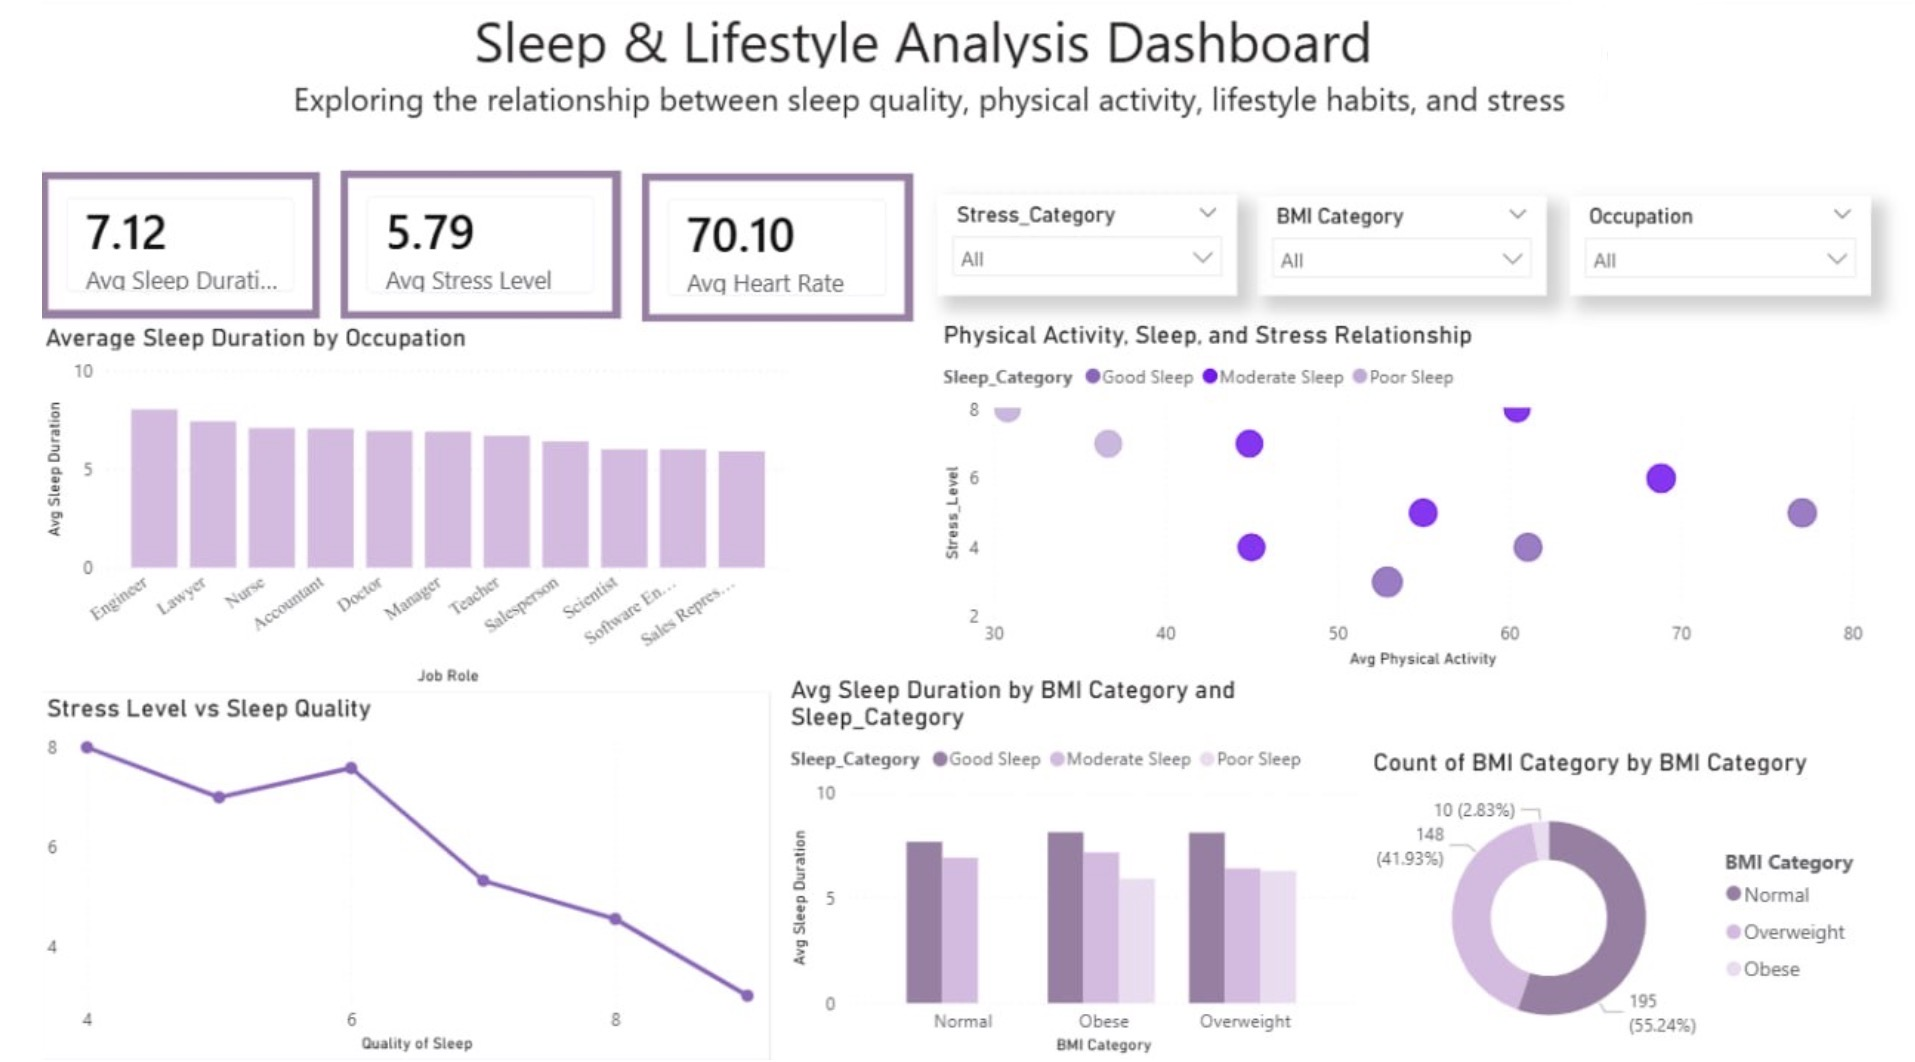

What the dashboard file says about the page in this screenshot:
{"tool":"powerbi","page":{"name":"Page 2","canvas":[1280,720],"ordinal":1},"visuals":[{"type":"donutChart","fields":{"Category":["Sleep_health_and_lifestyle_data.BMI Category"],"Y":["CountNonNull(Sleep_health_and_lifestyle_data.BMI Category)"]},"box":[904.3,507.1,350,212.9],"z":0},{"type":"lineChart","title":"Stress Level vs Sleep Quality","fields":{"Category":["Sleep_health_and_lifestyle_data.Quality of Sleep"],"Y":["Avg(Sleep_health_and_lifestyle_data.Stress_Level)"]},"box":[8.6,470,494.3,250],"z":1000},{"type":"columnChart","title":"Average Sleep Duration by Occupation","fields":{"Category":["Sleep_health_and_lifestyle_data.Occupation"],"Y":["Sleep_health_and_lifestyle_data.Avg Sleep Duration"]},"box":[8.6,220,511.4,250],"z":2000},{"type":"clusteredColumnChart","fields":{"Category":["Sleep_health_and_lifestyle_data.BMI Category"],"Series":["Sleep_health_and_lifestyle_data.Sleep_Category"],"Y":["Sleep_health_and_lifestyle_data.Avg Sleep Duration"]},"box":[511.4,458.6,392.9,261.4],"z":3000},{"type":"scatterChart","title":"Physical Activity, Sleep, and Stress Relationship","fields":{"X":["Sleep_health_and_lifestyle_data.Avg Physical Activity"],"Y":["Sleep_health_and_lifestyle_data.Stress_Level"],"Series":["Sleep_health_and_lifestyle_data.Sleep_Category"],"Size":["Sleep_health_and_lifestyle_data.Avg Sleep Duration"]},"box":[614.3,218.6,630,240],"z":4000},{"type":"cardVisual","fields":{"Data":["Sleep_health_and_lifestyle_data.Avg Sleep Duration"]},"box":[10.5,119.8,188.4,98.8],"z":5000},{"type":"cardVisual","fields":{"Data":["Sleep_health_and_lifestyle_data.Avg Stress Level"]},"box":[213,118.6,188.6,100],"z":6000},{"type":"cardVisual","fields":{"Data":["Sleep_health_and_lifestyle_data.Avg Heart Rate"]},"box":[415.7,120,182.9,100],"z":7000},{"type":"slicer","fields":{"Values":["Sleep_health_and_lifestyle_data.BMI Category"]},"box":[831,136,195,67],"z":8000},{"type":"slicer","fields":{"Values":["Sleep_health_and_lifestyle_data.Occupation"]},"box":[1041.4,135.7,202.9,67.1],"z":9000},{"type":"slicer","fields":{"Values":["Stress_Dim.Stress_Category"]},"box":[615,135,201.7,68.3],"z":10000},{"type":"textbox","box":[10,0,1067.1,54.3],"z":11000},{"type":"textbox","box":[151.4,50,925.7,40],"z":12000}]}

Visuals, with their boxes in screenshot pixels (x1, y1, x2, y2), scaled from the page's 1280x720 canvas onto the 1915x1062 screenshot:
donutChart - Sleep_health_and_lifestyle_data.BMI Category x CountNonNull(Sleep_health_and_lifestyle_data.BMI Category): box(1353, 748, 1877, 1061)
"Stress Level vs Sleep Quality" lineChart: box(13, 693, 752, 1061)
"Average Sleep Duration by Occupation" columnChart: box(13, 324, 778, 693)
clusteredColumnChart - Sleep_health_and_lifestyle_data.BMI Category x Sleep_health_and_lifestyle_data.Sleep_Category: box(765, 676, 1353, 1061)
"Physical Activity, Sleep, and Stress Relationship" scatterChart: box(919, 322, 1862, 676)
cardVisual - Sleep_health_and_lifestyle_data.Avg Sleep Duration: box(16, 177, 298, 322)
cardVisual - Sleep_health_and_lifestyle_data.Avg Stress Level: box(319, 175, 601, 322)
cardVisual - Sleep_health_and_lifestyle_data.Avg Heart Rate: box(622, 177, 896, 324)
slicer - Sleep_health_and_lifestyle_data.BMI Category: box(1243, 201, 1535, 299)
slicer - Sleep_health_and_lifestyle_data.Occupation: box(1558, 200, 1862, 299)
slicer - Stress_Dim.Stress_Category: box(920, 199, 1222, 300)
textbox: box(15, 0, 1611, 80)
textbox: box(227, 74, 1611, 133)
